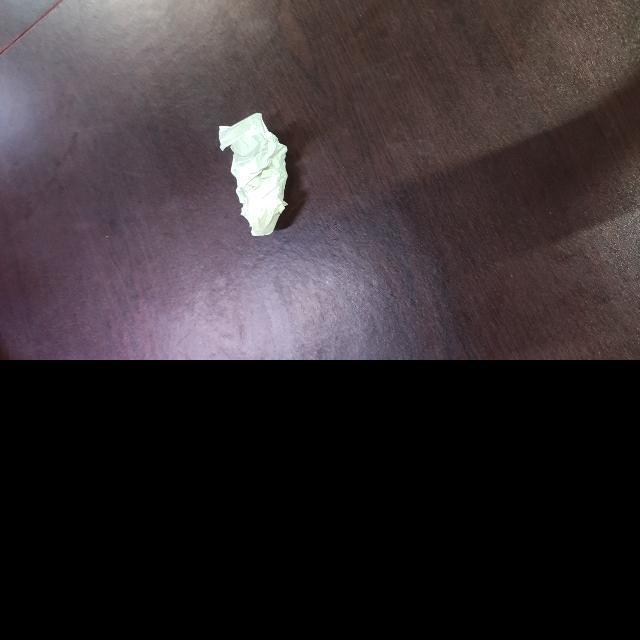kitchen paper: (214, 109, 296, 242)
